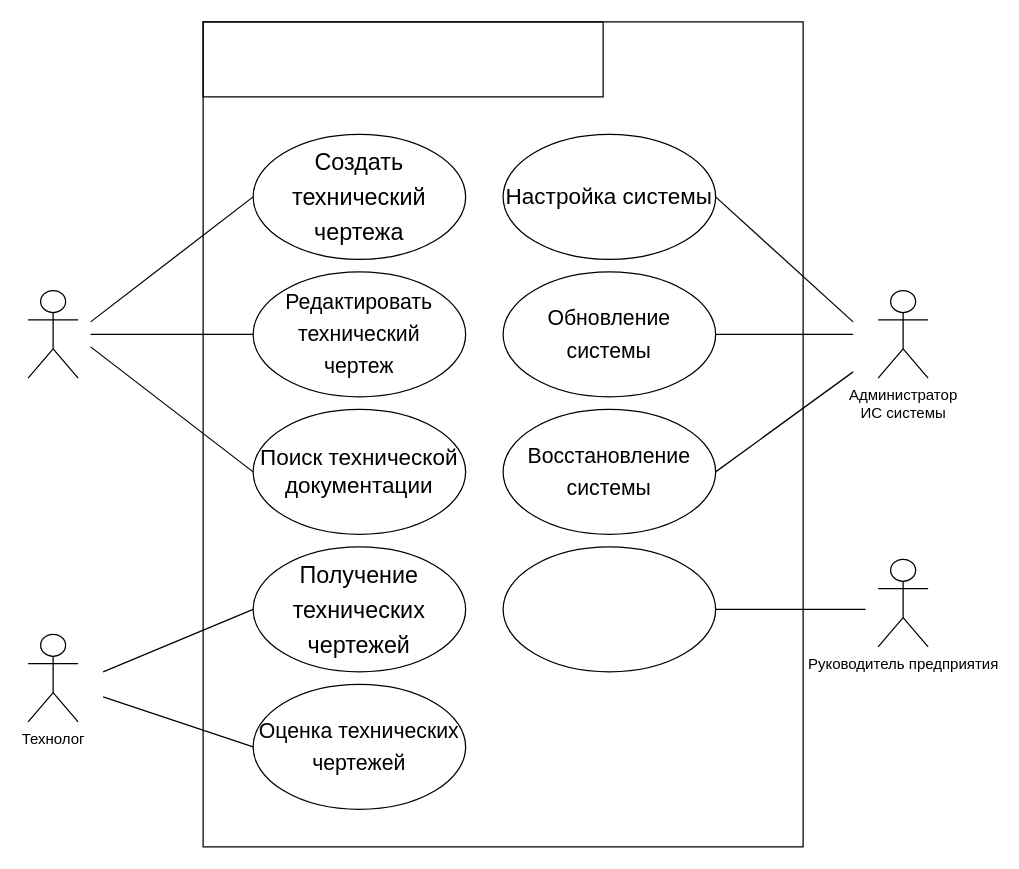
The diagram is 1019 pixels wide and 869 high, and some of its shapes have lost their labels. The centre of each missing label's shape, as x and y in pixels:
Инженер: point (52, 333)
Мониторинг эффективности производственных процессов: point (609, 609)
Чертежи и Технологии: point (402, 59)
